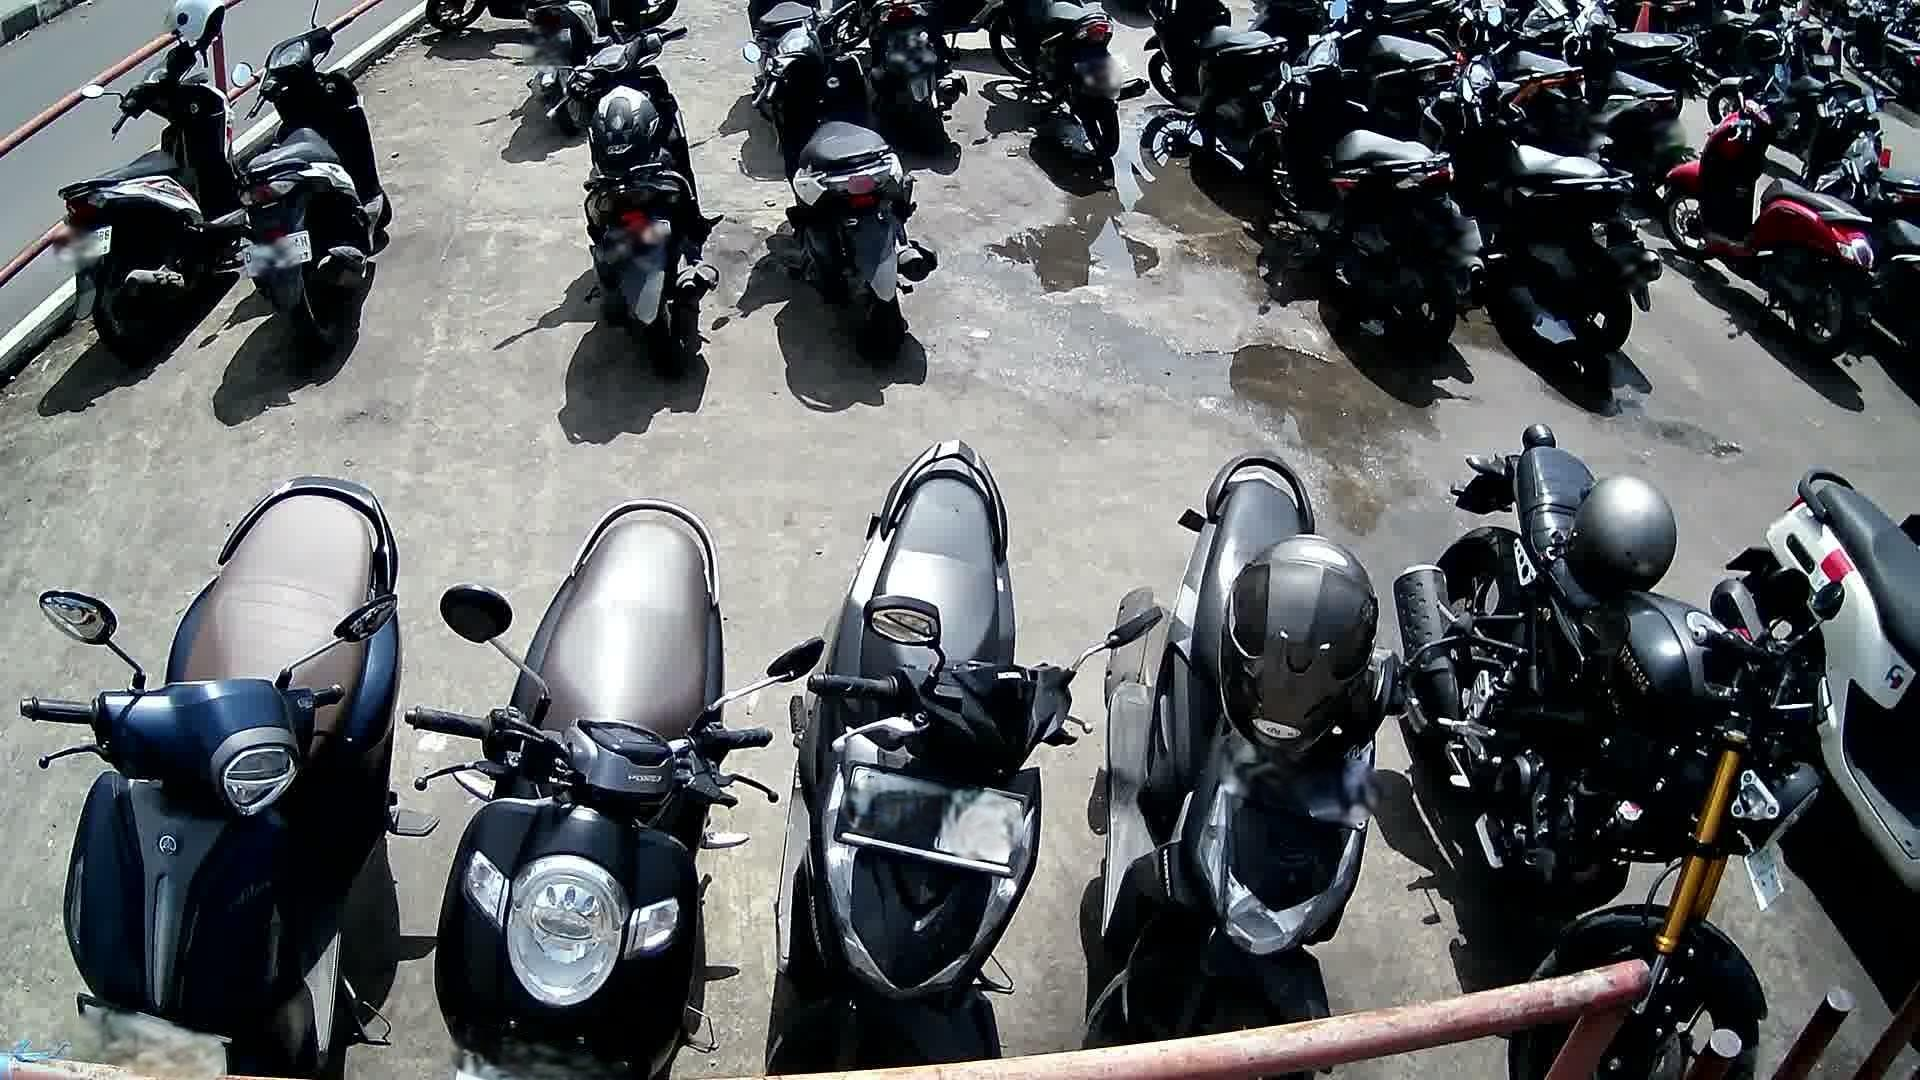motorcycle: (1389, 418, 1829, 1080), (20, 476, 440, 1071), (406, 496, 825, 1080), (767, 435, 1141, 1080), (1091, 450, 1427, 1060), (1404, 5, 1667, 364), (1713, 467, 1920, 905), (1255, 0, 1491, 365), (738, 1, 940, 355), (55, 28, 252, 371), (546, 24, 727, 377), (1665, 76, 1882, 364), (233, 18, 397, 361)
